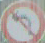Don't turn left: (3, 3, 43, 42)
